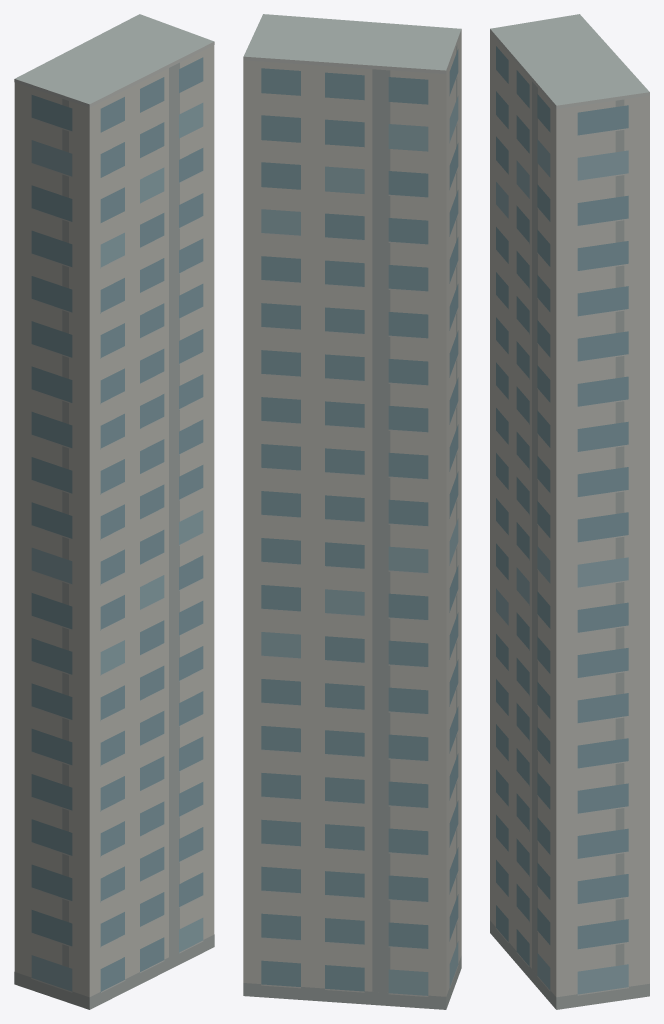
File: survey-upis-32765579.glb
The picture shows the model from 3 angles, left to right: view 1: azimuth 30°, elevation 25°; view 2: azimuth 150°, elevation 25°; view 3: azimuth 270°, elevation 25°; orthographic projection. The views are drawn at different scales.
Parts seen in each view (by area): view 1: survey-upis-32765579.tmp; view 2: survey-upis-32765579.tmp; view 3: survey-upis-32765579.tmp.
Boxes of the visible parts, x1,y1,x2,y2 form: survey-upis-32765579.tmp: (14, 14, 214, 1009); survey-upis-32765579.tmp: (243, 14, 461, 1009); survey-upis-32765579.tmp: (490, 14, 649, 1009).
Bounding box in the file's own units: 13.28 × 61 × 9.78.
